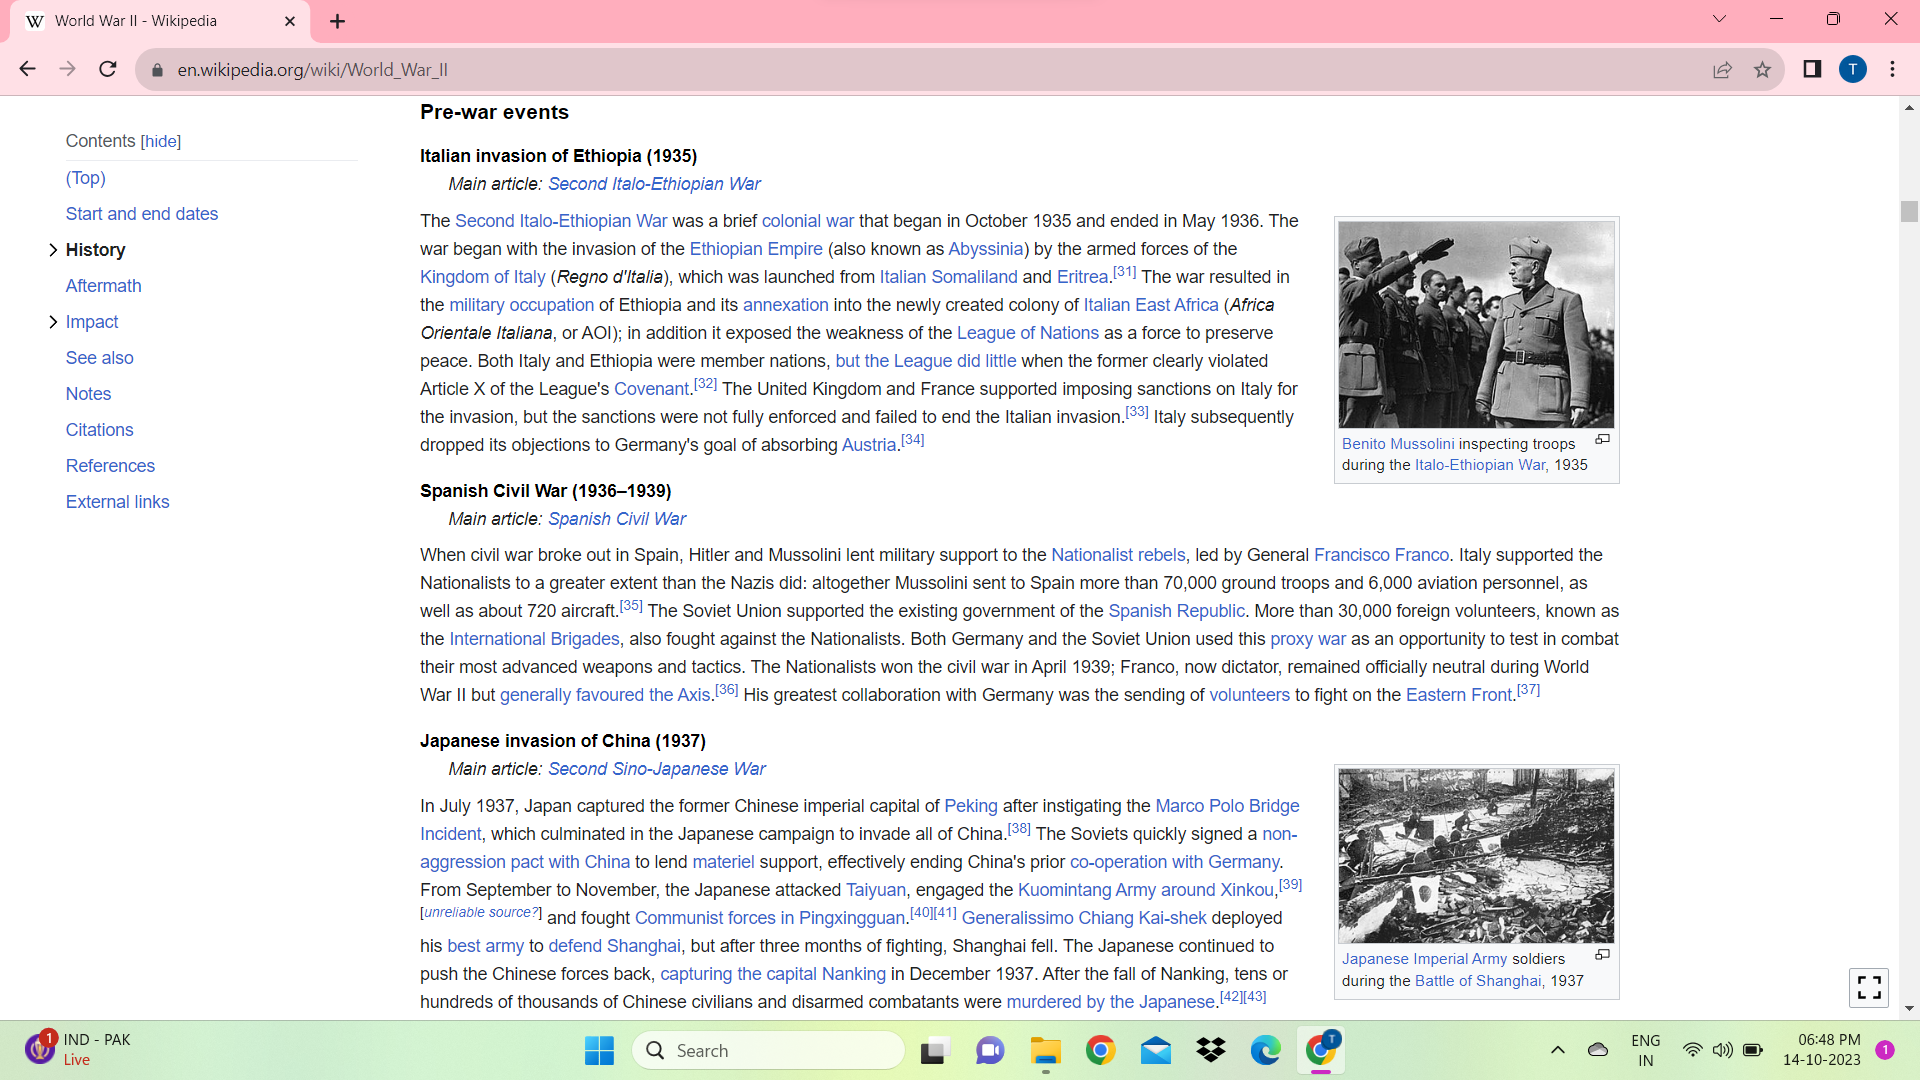Image: (1329, 207, 1627, 434), (1333, 761, 1621, 945)
Paragraph: (411, 190, 1312, 468), (393, 537, 1629, 712), (404, 787, 1300, 1017), (411, 729, 783, 781), (406, 479, 705, 530), (406, 138, 719, 169), (54, 203, 268, 228), (417, 99, 584, 129), (57, 488, 187, 526), (57, 336, 149, 380), (50, 129, 199, 152), (51, 274, 166, 299), (50, 160, 125, 194), (58, 417, 149, 442), (58, 235, 132, 255)
